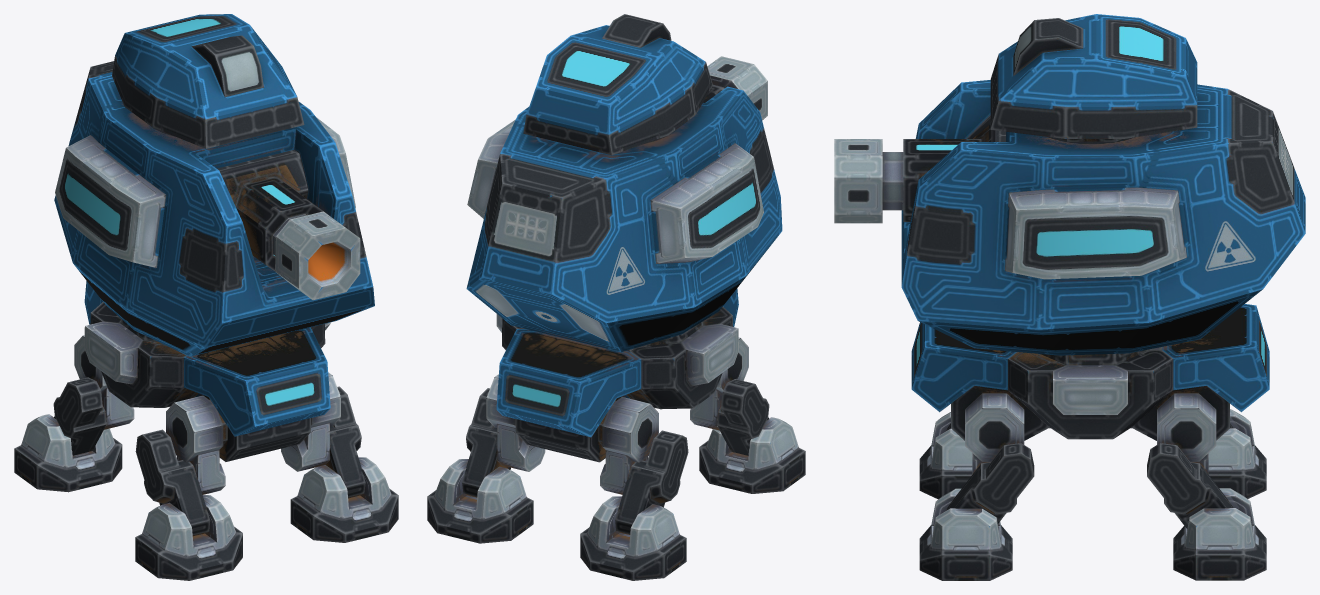
The picture shows the model from 3 angles, left to right: view 1: azimuth 30°, elevation 25°; view 2: azimuth 150°, elevation 25°; view 3: azimuth 270°, elevation 25°; orthographic projection. The views are drawn at different scales.
Parts seen in each view (by area): view 1: d066fa6c-e36c-42df-bbf2-2ef291f5c373, 726892b8-d95f-4f54-8fc1-a36720ff6fed, 0273b39f-15fd-4d84-9a51-8f406b5eb2e2, 0f2ece8a-bd8b-49cb-9059-88e4da1314e2, 334b194a-6a3a-49c3-92a4-43cabefd00af, f95e4d9a-5372-4bd8-a311-a8518f36351e, 83c2a1a6-17b2-424b-a355-0e29f3c4c46e, 4118c1e8-be0c-4195-8862-c9455b595e8c, ffa93f07-20fa-4ce2-8175-3532d6847b0e, e7743659-b5f7-4a42-a9ff-e4ddc6db8547, 51219ed6-1c22-4a3a-862f-39b9f9a619a6, b4ee84c0-39c0-4c4f-9317-b93a38096e50 (+2 smaller); view 2: d066fa6c-e36c-42df-bbf2-2ef291f5c373, 726892b8-d95f-4f54-8fc1-a36720ff6fed, 0273b39f-15fd-4d84-9a51-8f406b5eb2e2, 4118c1e8-be0c-4195-8862-c9455b595e8c, 7aef41a6-44d1-4c6a-9117-6f6edadc5c48, 334b194a-6a3a-49c3-92a4-43cabefd00af, 5ca72b92-c5a7-45a5-bda9-d1b9dc39c736, 51219ed6-1c22-4a3a-862f-39b9f9a619a6, e7743659-b5f7-4a42-a9ff-e4ddc6db8547, 9ada603b-454d-4450-b73b-ae8b5c08f169, 3b4afab9-58a3-4c59-b636-4891b9a83dd0, 83c2a1a6-17b2-424b-a355-0e29f3c4c46e (+1 smaller); view 3: d066fa6c-e36c-42df-bbf2-2ef291f5c373, 726892b8-d95f-4f54-8fc1-a36720ff6fed, 0273b39f-15fd-4d84-9a51-8f406b5eb2e2, 7aef41a6-44d1-4c6a-9117-6f6edadc5c48, 0f2ece8a-bd8b-49cb-9059-88e4da1314e2, 83c2a1a6-17b2-424b-a355-0e29f3c4c46e, 9ada603b-454d-4450-b73b-ae8b5c08f169, b4ee84c0-39c0-4c4f-9317-b93a38096e50, 4118c1e8-be0c-4195-8862-c9455b595e8c, 92c9ae0e-0445-4bae-b917-aa8b2905ec34, 3b4afab9-58a3-4c59-b636-4891b9a83dd0, 334b194a-6a3a-49c3-92a4-43cabefd00af (+1 smaller).
Boxes of the visible parts, bbox=[...] form: d066fa6c-e36c-42df-bbf2-2ef291f5c373: bbox=[54, 61, 374, 356]; 726892b8-d95f-4f54-8fc1-a36720ff6fed: bbox=[84, 281, 330, 461]; 0273b39f-15fd-4d84-9a51-8f406b5eb2e2: bbox=[112, 14, 304, 148]; 0f2ece8a-bd8b-49cb-9059-88e4da1314e2: bbox=[290, 457, 398, 542]; 334b194a-6a3a-49c3-92a4-43cabefd00af: bbox=[135, 495, 242, 580]; f95e4d9a-5372-4bd8-a311-a8518f36351e: bbox=[217, 150, 327, 270]; 83c2a1a6-17b2-424b-a355-0e29f3c4c46e: bbox=[272, 211, 360, 300]; 4118c1e8-be0c-4195-8862-c9455b595e8c: bbox=[14, 414, 122, 492]; ffa93f07-20fa-4ce2-8175-3532d6847b0e: bbox=[166, 395, 227, 494]; e7743659-b5f7-4a42-a9ff-e4ddc6db8547: bbox=[135, 429, 210, 536]; 51219ed6-1c22-4a3a-862f-39b9f9a619a6: bbox=[53, 377, 106, 455]; b4ee84c0-39c0-4c4f-9317-b93a38096e50: bbox=[325, 386, 365, 498]; d066fa6c-e36c-42df-bbf2-2ef291f5c373: bbox=[466, 86, 782, 352]; 726892b8-d95f-4f54-8fc1-a36720ff6fed: bbox=[496, 288, 738, 462]; 0273b39f-15fd-4d84-9a51-8f406b5eb2e2: bbox=[523, 14, 712, 155]; 4118c1e8-be0c-4195-8862-c9455b595e8c: bbox=[580, 496, 686, 580]; 7aef41a6-44d1-4c6a-9117-6f6edadc5c48: bbox=[427, 459, 533, 543]; 334b194a-6a3a-49c3-92a4-43cabefd00af: bbox=[699, 417, 805, 493]; 5ca72b92-c5a7-45a5-bda9-d1b9dc39c736: bbox=[598, 397, 658, 494]; 51219ed6-1c22-4a3a-862f-39b9f9a619a6: bbox=[615, 430, 688, 534]; e7743659-b5f7-4a42-a9ff-e4ddc6db8547: bbox=[717, 379, 769, 455]; 9ada603b-454d-4450-b73b-ae8b5c08f169: bbox=[462, 388, 510, 497]; 3b4afab9-58a3-4c59-b636-4891b9a83dd0: bbox=[486, 374, 545, 471]; 83c2a1a6-17b2-424b-a355-0e29f3c4c46e: bbox=[707, 56, 767, 120]; d066fa6c-e36c-42df-bbf2-2ef291f5c373: bbox=[901, 80, 1305, 355]; 726892b8-d95f-4f54-8fc1-a36720ff6fed: bbox=[911, 304, 1269, 440]; 0273b39f-15fd-4d84-9a51-8f406b5eb2e2: bbox=[990, 14, 1197, 141]; 7aef41a6-44d1-4c6a-9117-6f6edadc5c48: bbox=[1173, 488, 1266, 580]; 0f2ece8a-bd8b-49cb-9059-88e4da1314e2: bbox=[919, 488, 1012, 580]; 83c2a1a6-17b2-424b-a355-0e29f3c4c46e: bbox=[834, 139, 903, 223]; 9ada603b-454d-4450-b73b-ae8b5c08f169: bbox=[1147, 443, 1233, 528]; b4ee84c0-39c0-4c4f-9317-b93a38096e50: bbox=[946, 443, 1034, 523]; 4118c1e8-be0c-4195-8862-c9455b595e8c: bbox=[1208, 409, 1266, 498]; 92c9ae0e-0445-4bae-b917-aa8b2905ec34: bbox=[965, 393, 1024, 474]; 3b4afab9-58a3-4c59-b636-4891b9a83dd0: bbox=[1157, 393, 1216, 473]; 334b194a-6a3a-49c3-92a4-43cabefd00af: bbox=[919, 412, 972, 499].
Bounding box in the file's own units: 53.98 × 100 × 86.87.
Materials: 1 (1 with a texture image).
